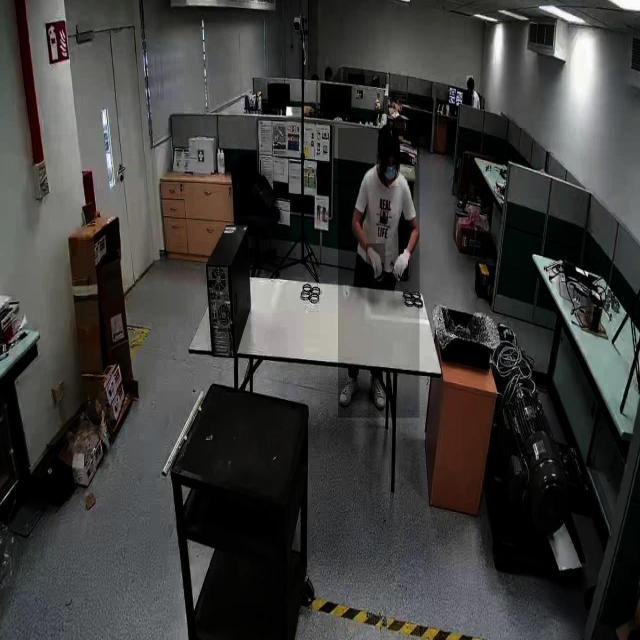face_mask: (382, 157, 398, 186)
hand_glove: (392, 253, 415, 291), (366, 244, 386, 280)
head_nohelmet: (378, 123, 398, 143), (466, 76, 474, 82)
person: (338, 128, 420, 419)
shoes: (336, 366, 359, 408), (367, 370, 387, 411)
